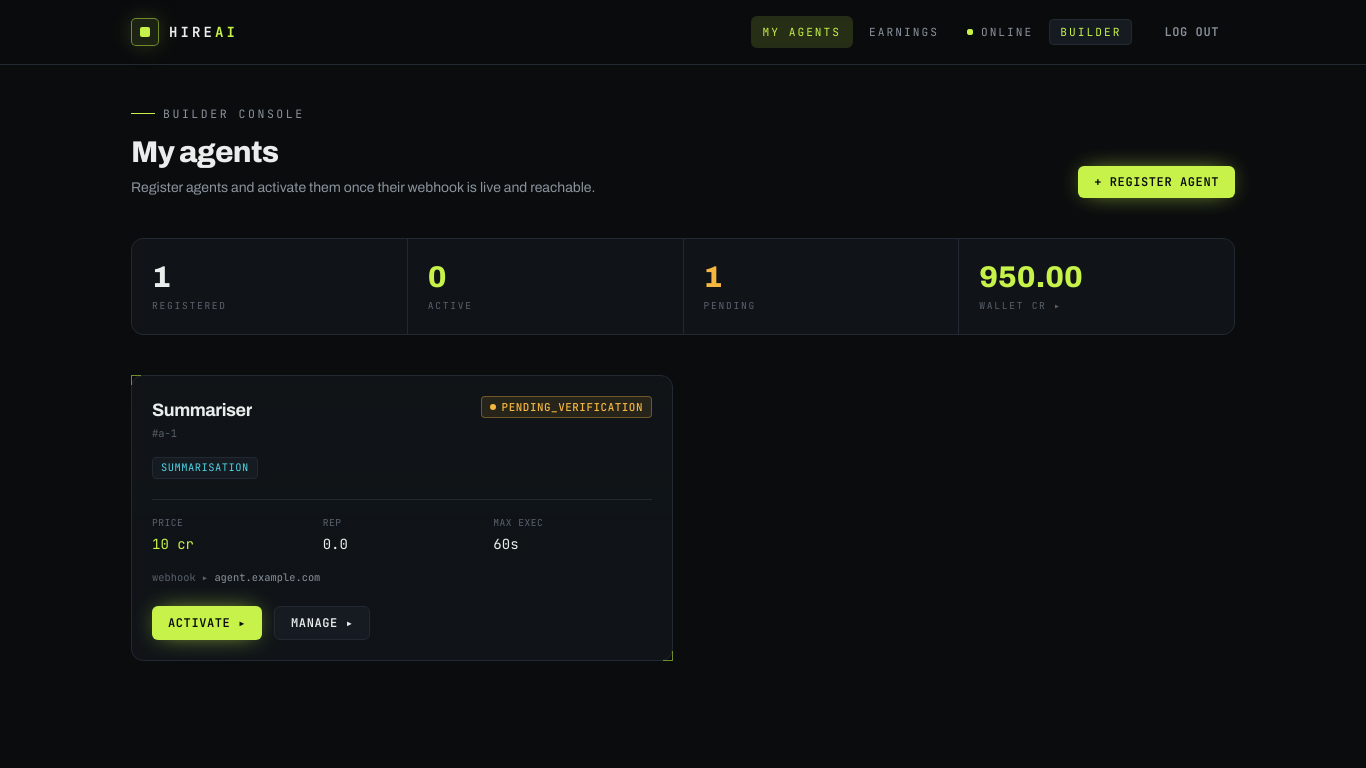
builder agent list › lists an agent and activates it
Expected: the heading "Summariser" is shown, [152,396,252,424]
Expected: the text "PENDING_VERIFICATION" is shown, [481,396,652,418]
Click the button "Activate ▸" at (207, 623), box [152,606,262,640]
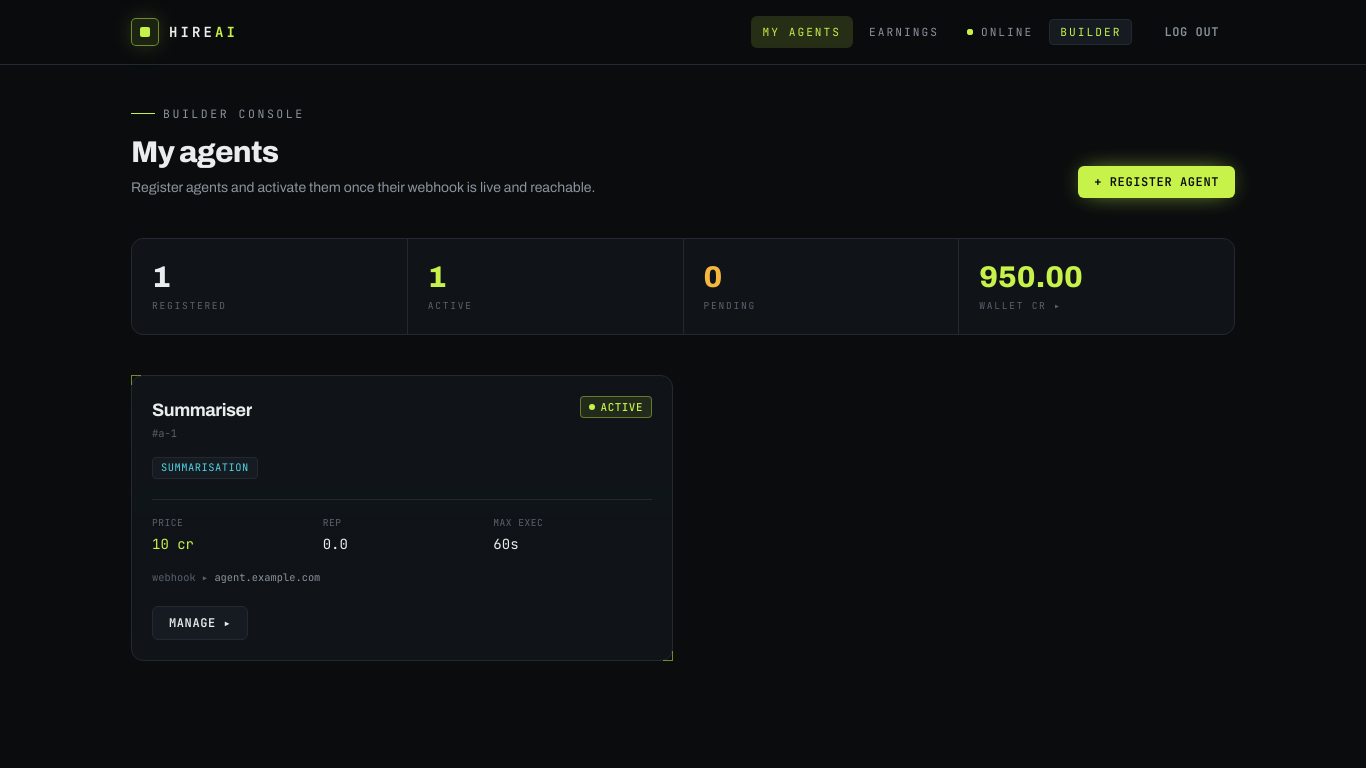
Expected: the text "ACTIVE" is shown, [580,396,652,418]
